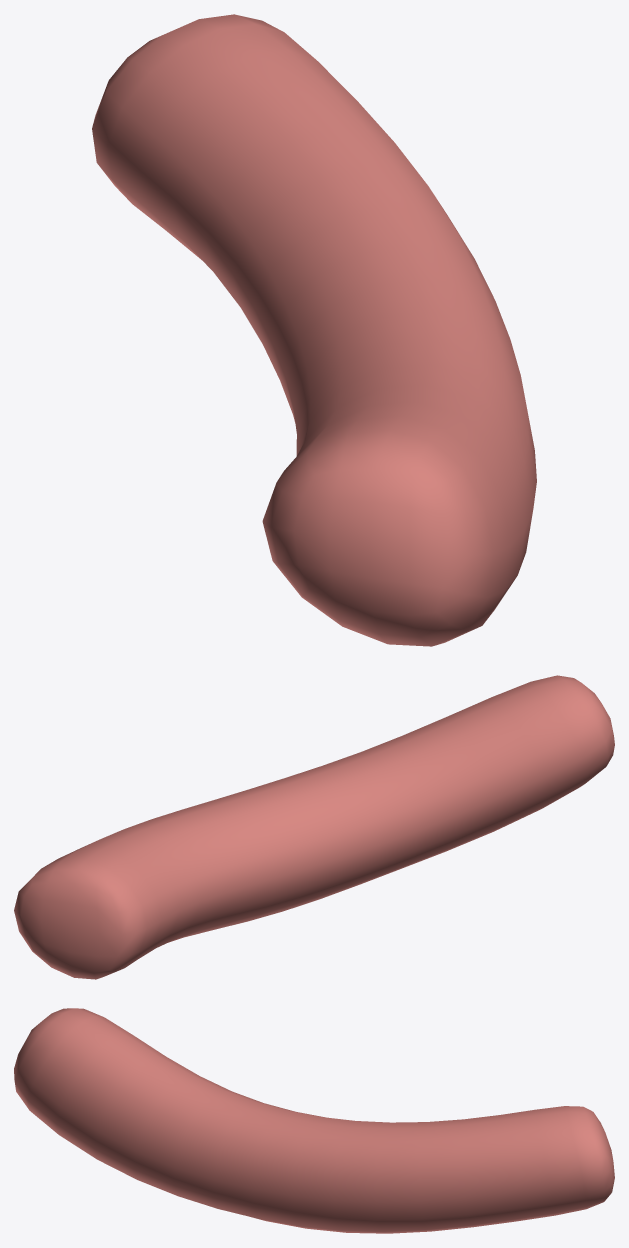
3 views of the same model, one above another, from view 1: azimuth 30°, elevation 25°; view 2: azimuth 150°, elevation 25°; view 3: azimuth 270°, elevation 25° (orthographic). The views are drawn at different scales.
Parts seen in each view (by area): view 1: ZA_c8ec12c032a72ac6; view 2: ZA_c8ec12c032a72ac6; view 3: ZA_c8ec12c032a72ac6.
Boxes of the visible parts, x1=… form: ZA_c8ec12c032a72ac6: x1=92, y1=14, x2=536, y2=646; ZA_c8ec12c032a72ac6: x1=14, y1=675, x2=614, y2=979; ZA_c8ec12c032a72ac6: x1=14, y1=1008, x2=614, y2=1233.
Bounding box in the file's own units: 0.0138 × 0.00711 × 0.027.
